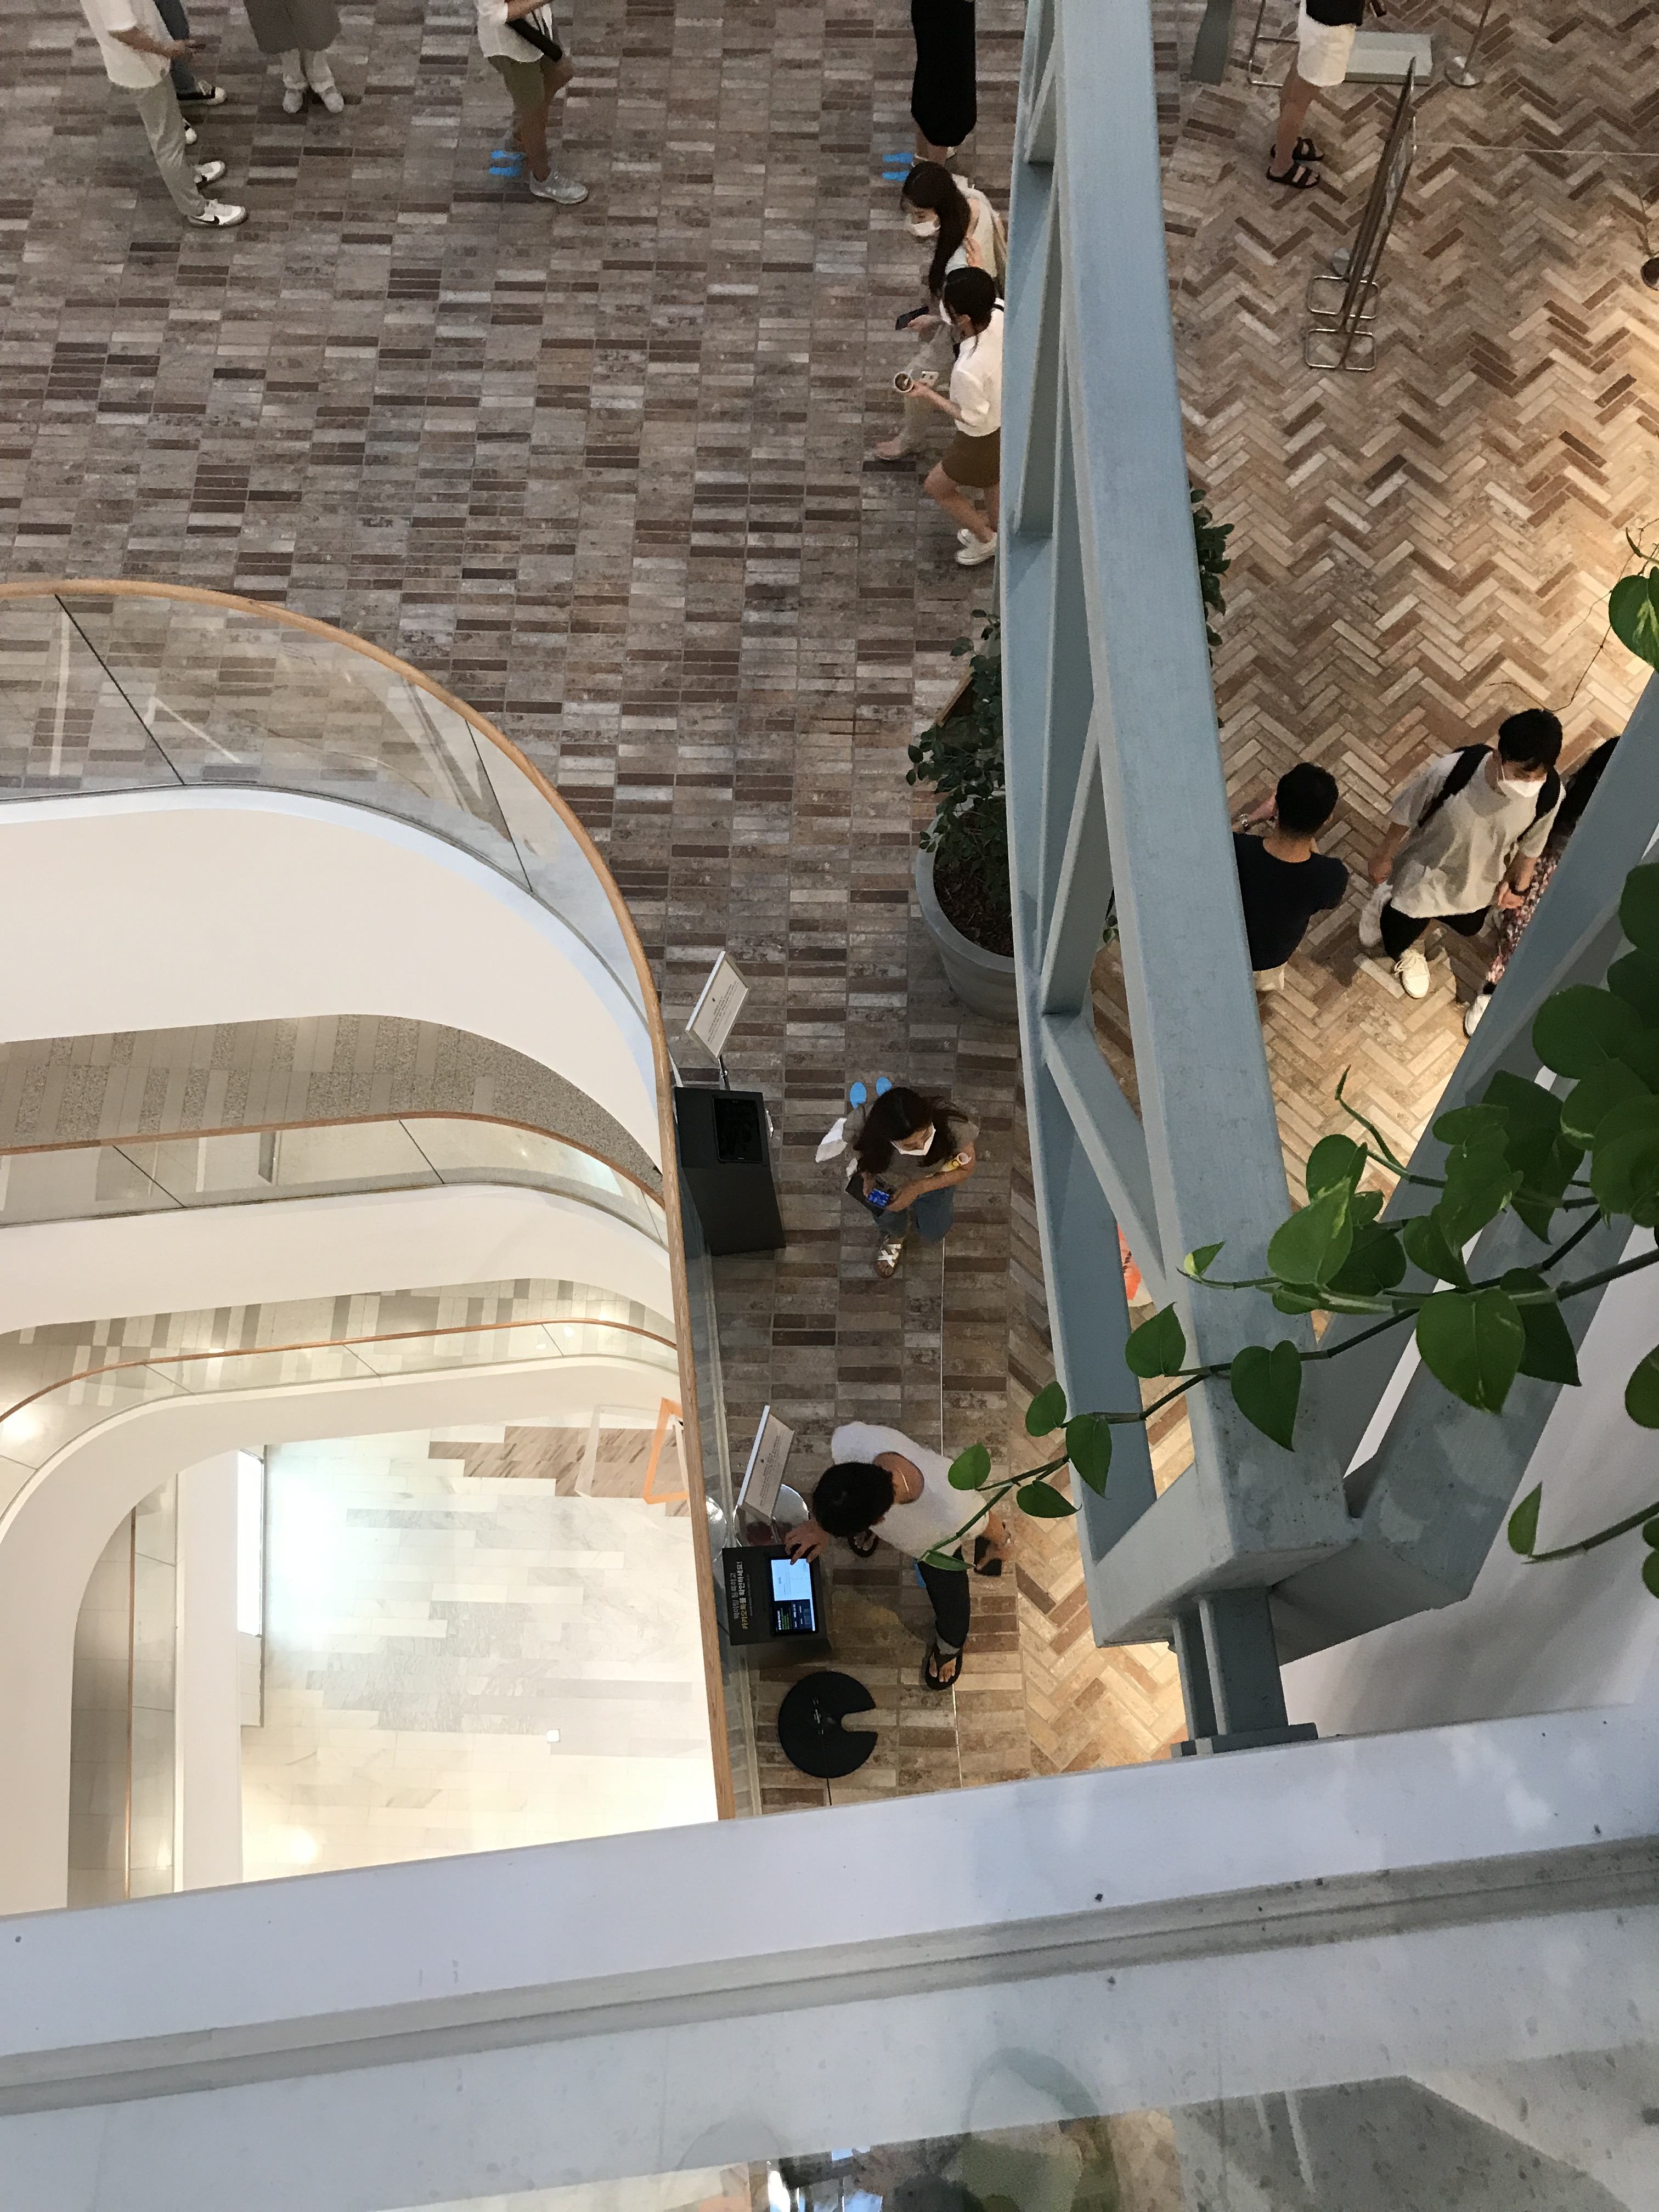person: (783, 1424, 1015, 1705), (1368, 708, 1576, 989), (860, 150, 1009, 467), (79, 1, 259, 239), (1225, 766, 1347, 1040), (820, 1080, 981, 1284), (911, 284, 1015, 568), (472, 1, 597, 208), (1256, 1, 1362, 193), (896, 1, 988, 174), (238, 1, 360, 120)
